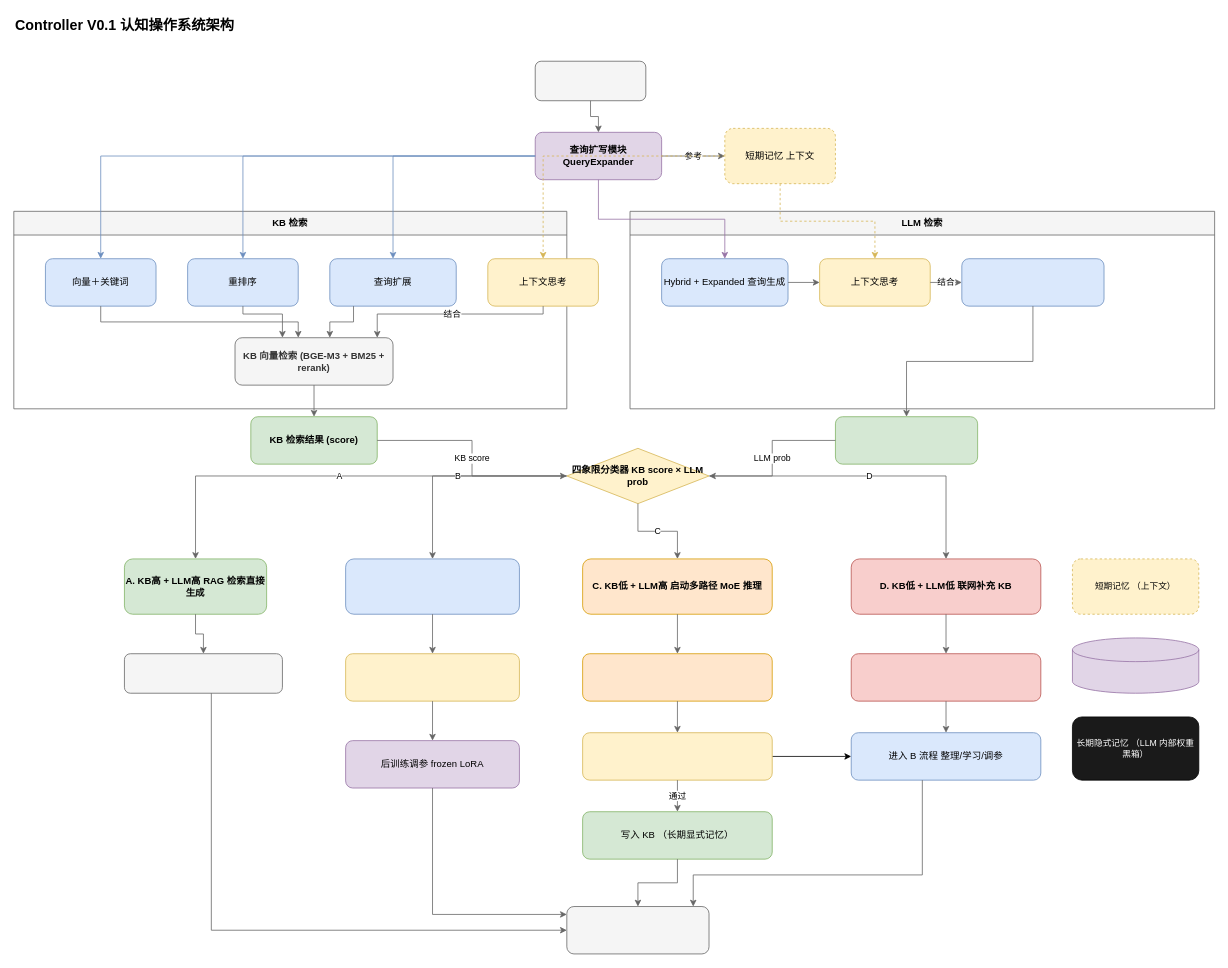
Image size: 1228x968. Some labels were removed from this diagram. Here are the shapes that lost their labels. From the top down, the centre of each, then its label:
At point 590,80: "用户输入".
At point 1032,282: "SVM-Linear 分类器".
At point 906,440: "LLM 检测结果 (known probability)".
At point 432,586: "B. KB高 + LLM低 依 KB 做逻辑推理".
At point 203,673: "不对记忆做任何改动".
At point 432,677: "多路影子验证 （记录学习样本）".
At point 677,677: "多路径推理 + 网查对比".
At point 945,677: "联网搜索摘要 补充进 KB 库".
At point 1135,665: "长期显式记忆 （KB）".
At point 677,756: "验证结论合理性".
At point 637,930: "最终回答 / 输出".
